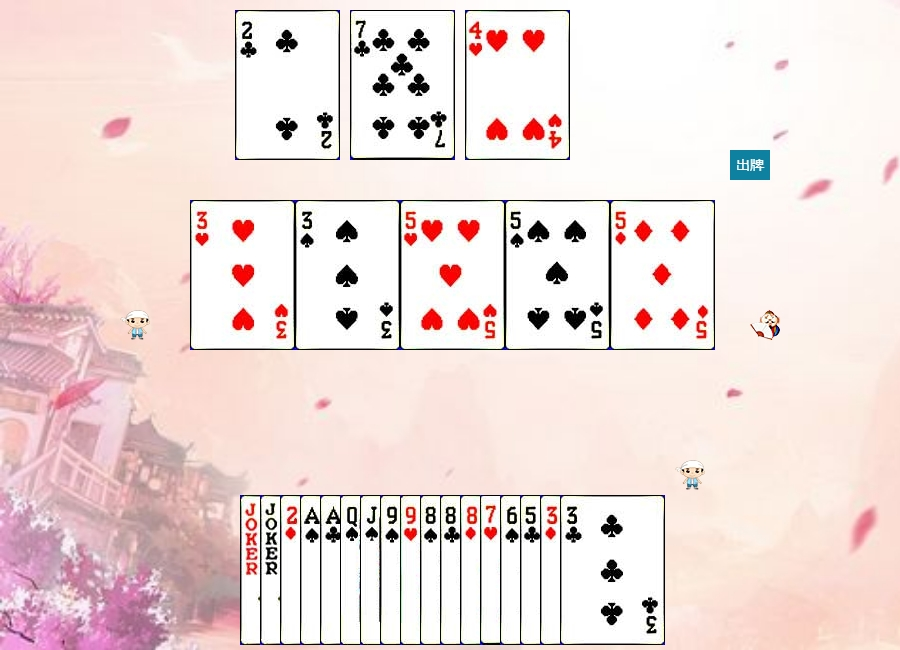11~4: (360, 495, 465, 645)
12~4: (340, 495, 445, 645)
14~2: (320, 495, 425, 645)
14~4: (300, 495, 405, 645)
15~1: (280, 495, 385, 645)
15~2: (235, 10, 340, 160)
17~3: (260, 495, 365, 645)
18~4: (240, 495, 345, 645)
3~1: (540, 495, 645, 645)
3~2: (560, 495, 665, 645)
3~3: (190, 200, 295, 350)
3~4: (295, 200, 400, 350)
4~3: (465, 10, 570, 160)
5~1: (610, 200, 715, 350)
5~2: (520, 495, 625, 645)
5~3: (400, 200, 505, 350)
5~4: (505, 200, 610, 350)
6~4: (500, 495, 605, 645)
7~2: (350, 10, 455, 160)
7~3: (480, 495, 585, 645)
8~1: (460, 495, 565, 645)
8~2: (440, 495, 545, 645)
8~4: (420, 495, 525, 645)
9~3: (400, 495, 505, 645)
9~4: (380, 495, 485, 645)
